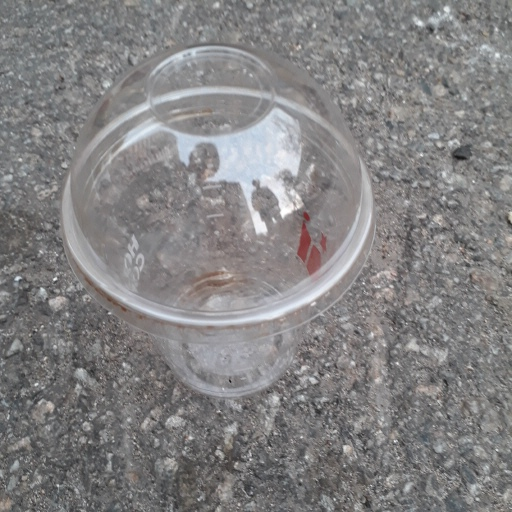Plastic_2: (56, 41, 378, 401)
